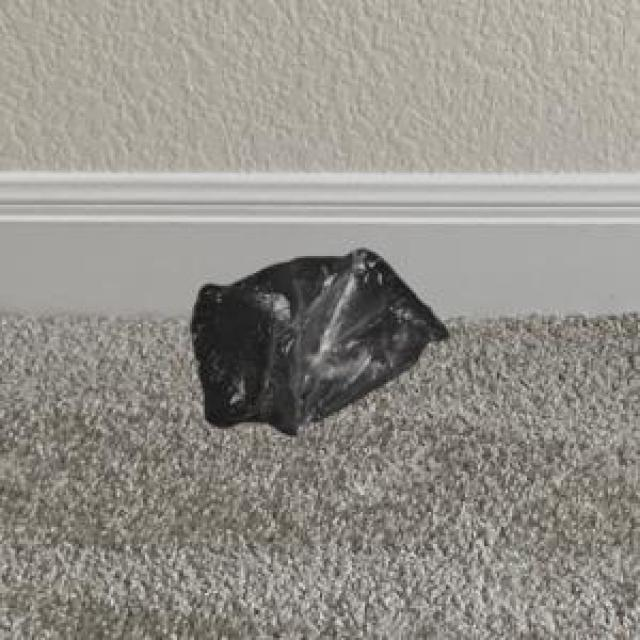Vinyl: (191, 251, 449, 434)
